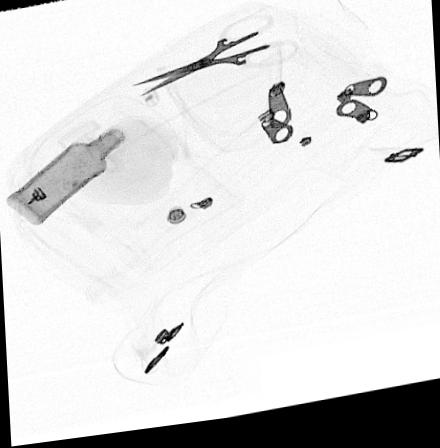Scissors: (125, 21, 303, 103)
